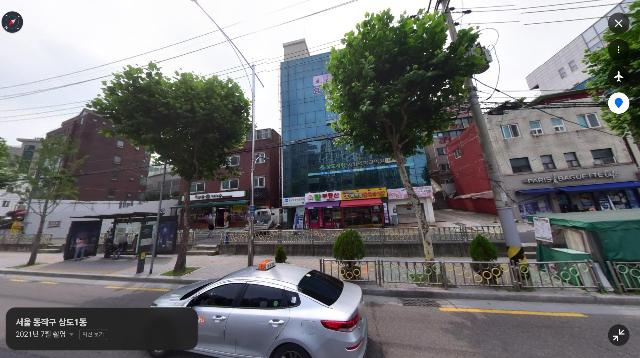other: (321, 7, 489, 263), (86, 59, 253, 276), (0, 124, 91, 267), (578, 25, 640, 154)
